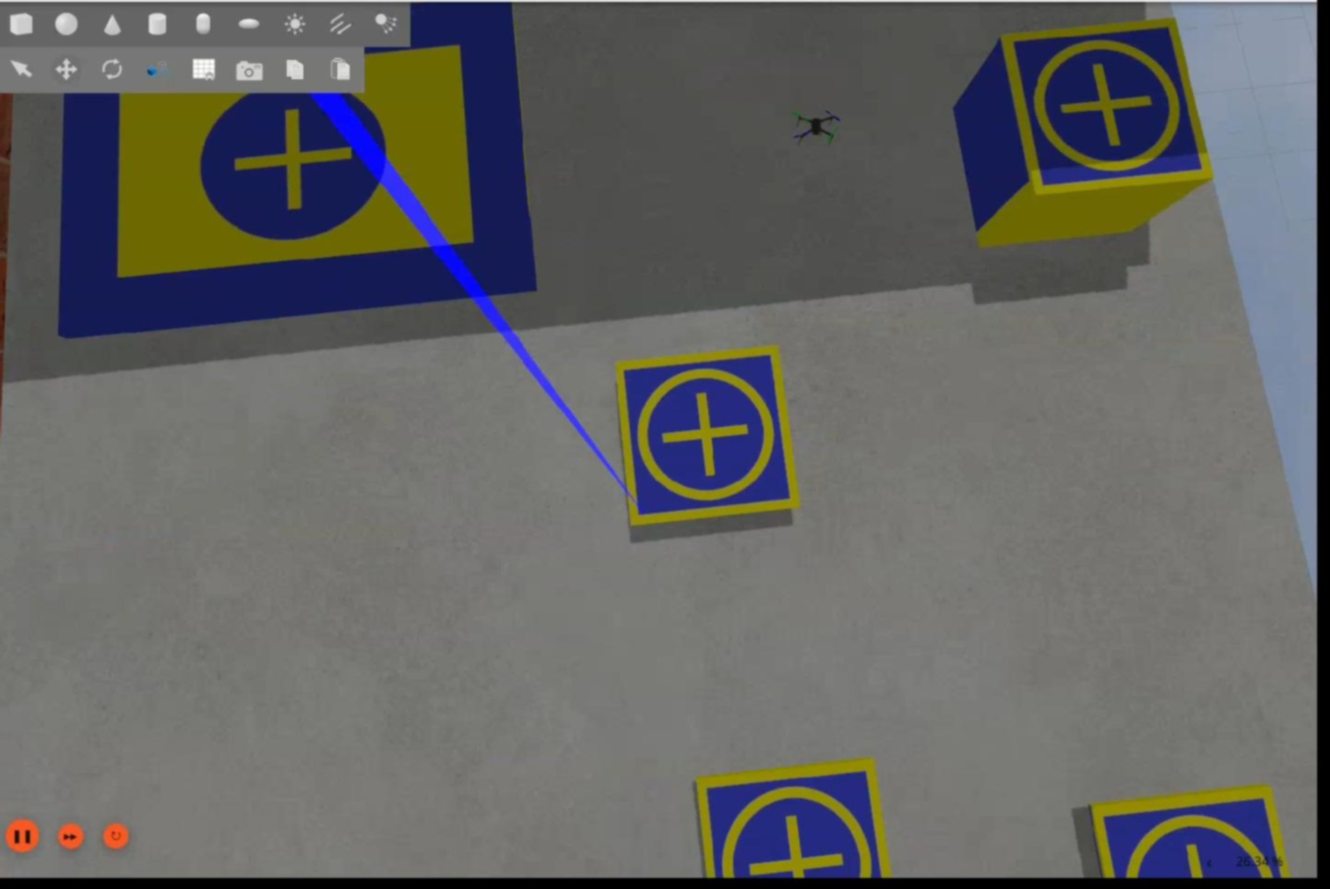large_base: (56, 1, 540, 341)
small_base: (994, 14, 1217, 196), (612, 341, 804, 534), (695, 756, 888, 879), (1088, 790, 1299, 880)
